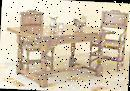Mesa: (6, 21, 114, 90)
Silla: (17, 9, 57, 76), (88, 9, 129, 72)
